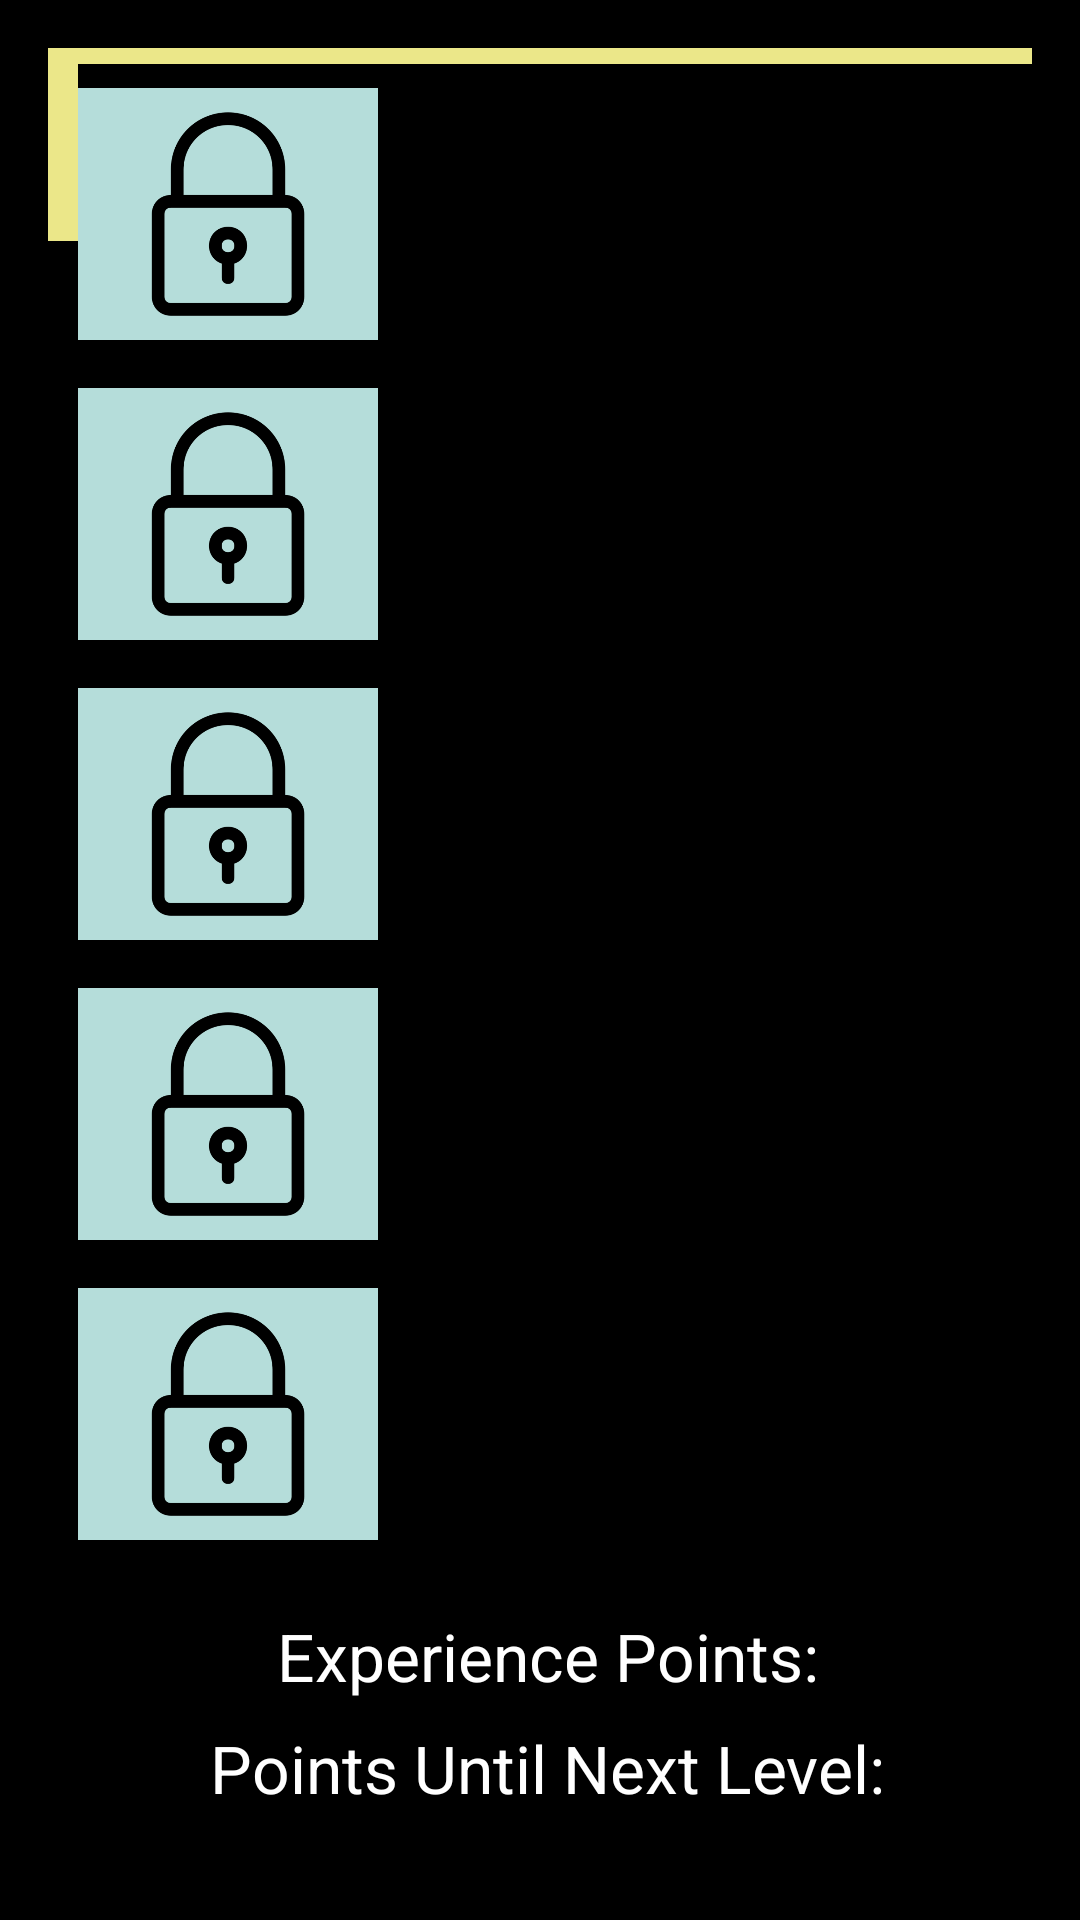

Named icons in this screenshot (1080 × 1920) and their centers, point (x, y):
lockcc: point (228, 214), point (228, 514), point (228, 814), point (228, 1114), point (228, 1414)
